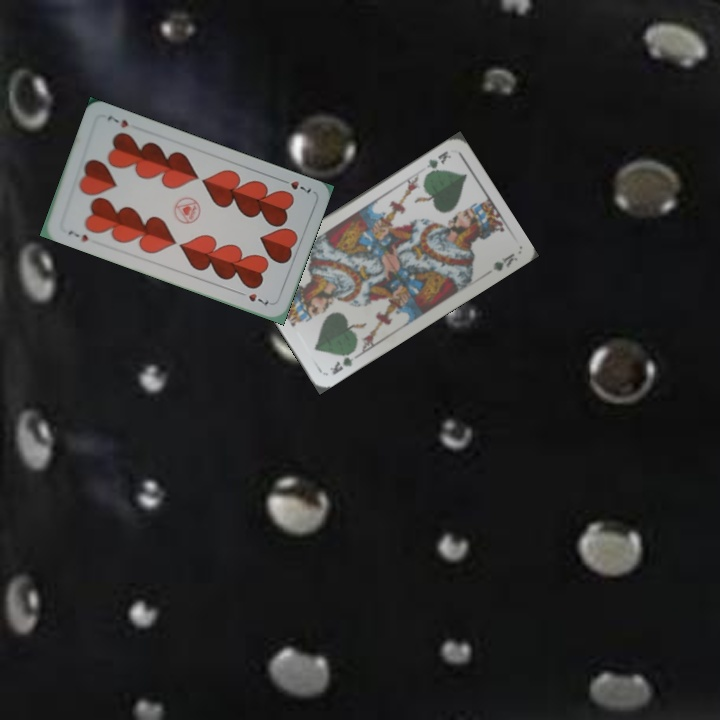GK: (326, 347, 361, 377), (422, 146, 453, 178)
H7: (276, 175, 314, 196), (64, 226, 91, 245)
